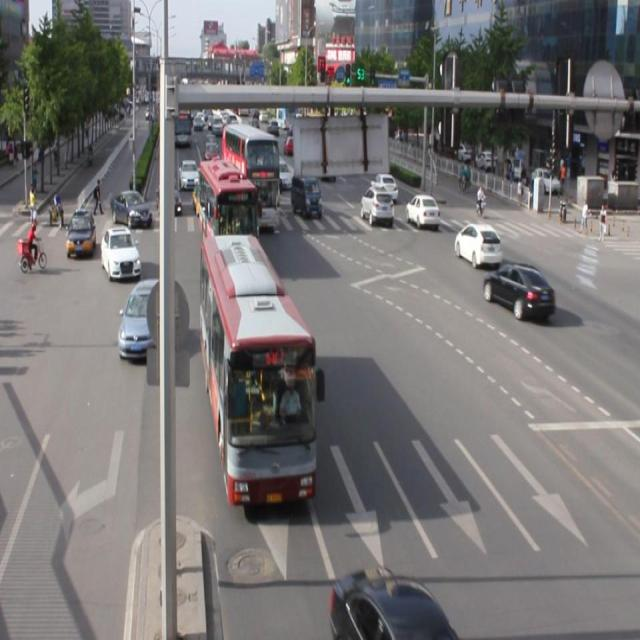car: (328, 565, 456, 640), (118, 278, 168, 360), (482, 261, 555, 317), (101, 225, 140, 282), (452, 222, 501, 266)
van: (201, 235, 316, 502), (198, 162, 258, 254)
